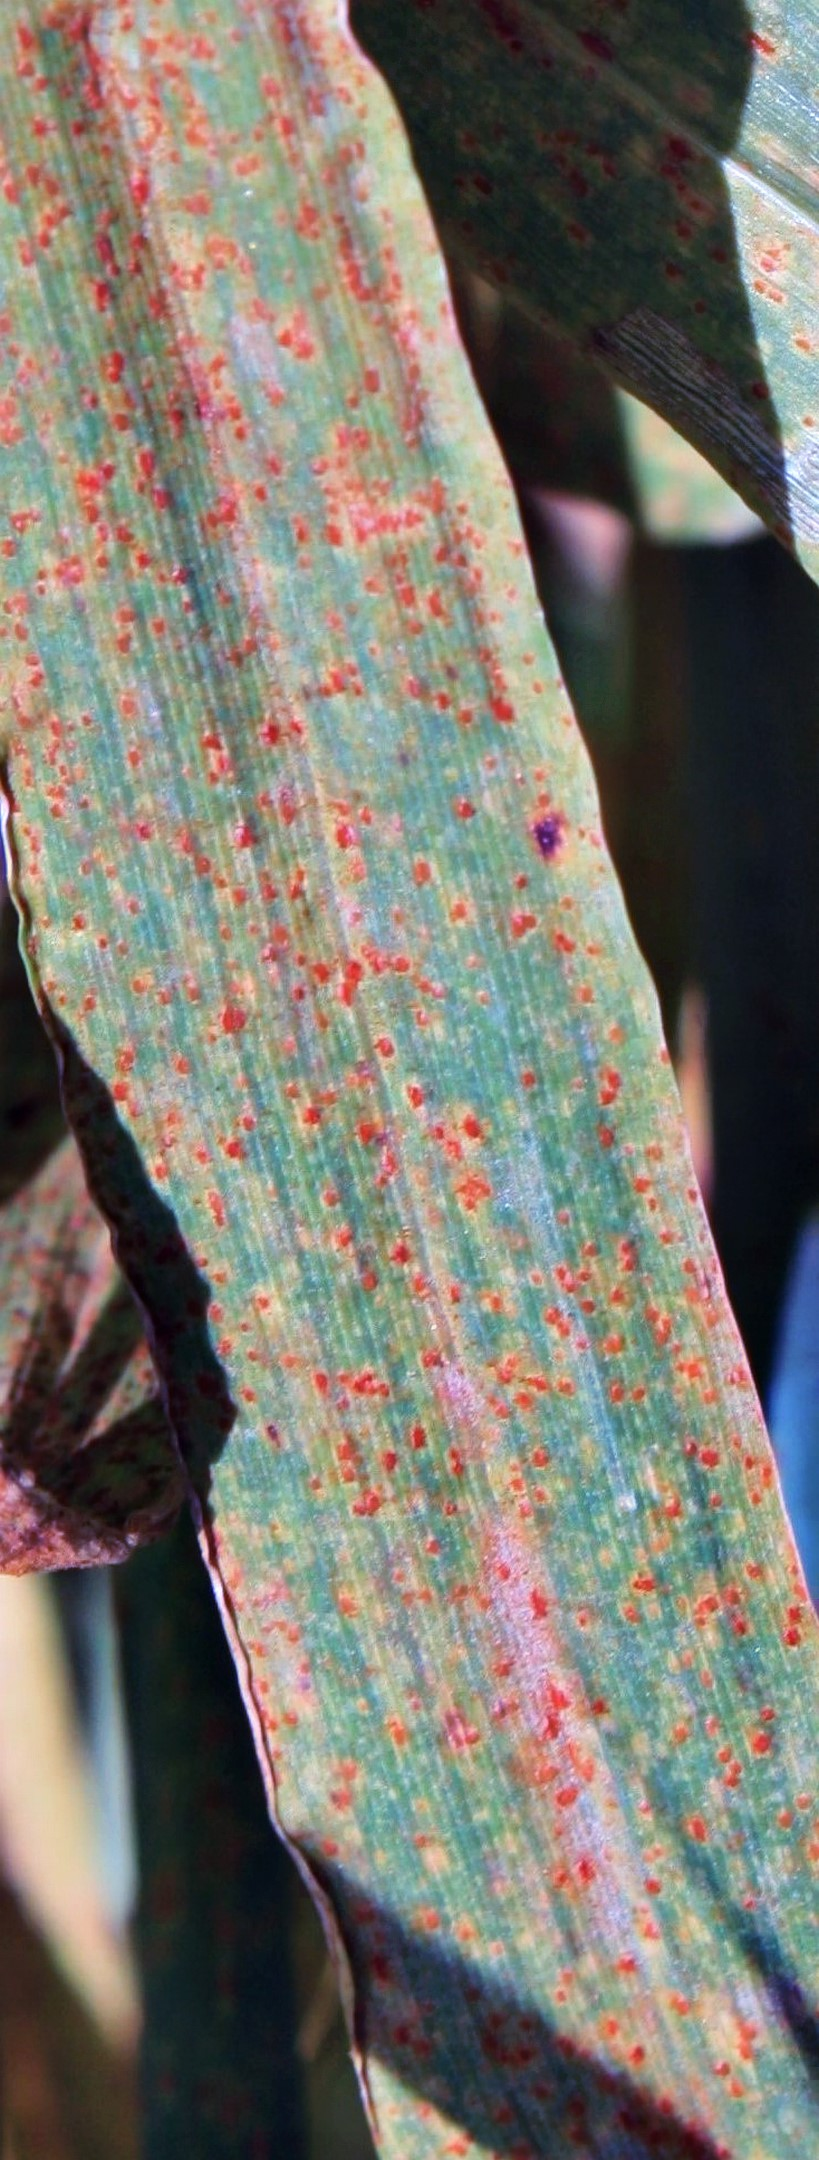Leaf Rust: (12, 54, 819, 2126)
